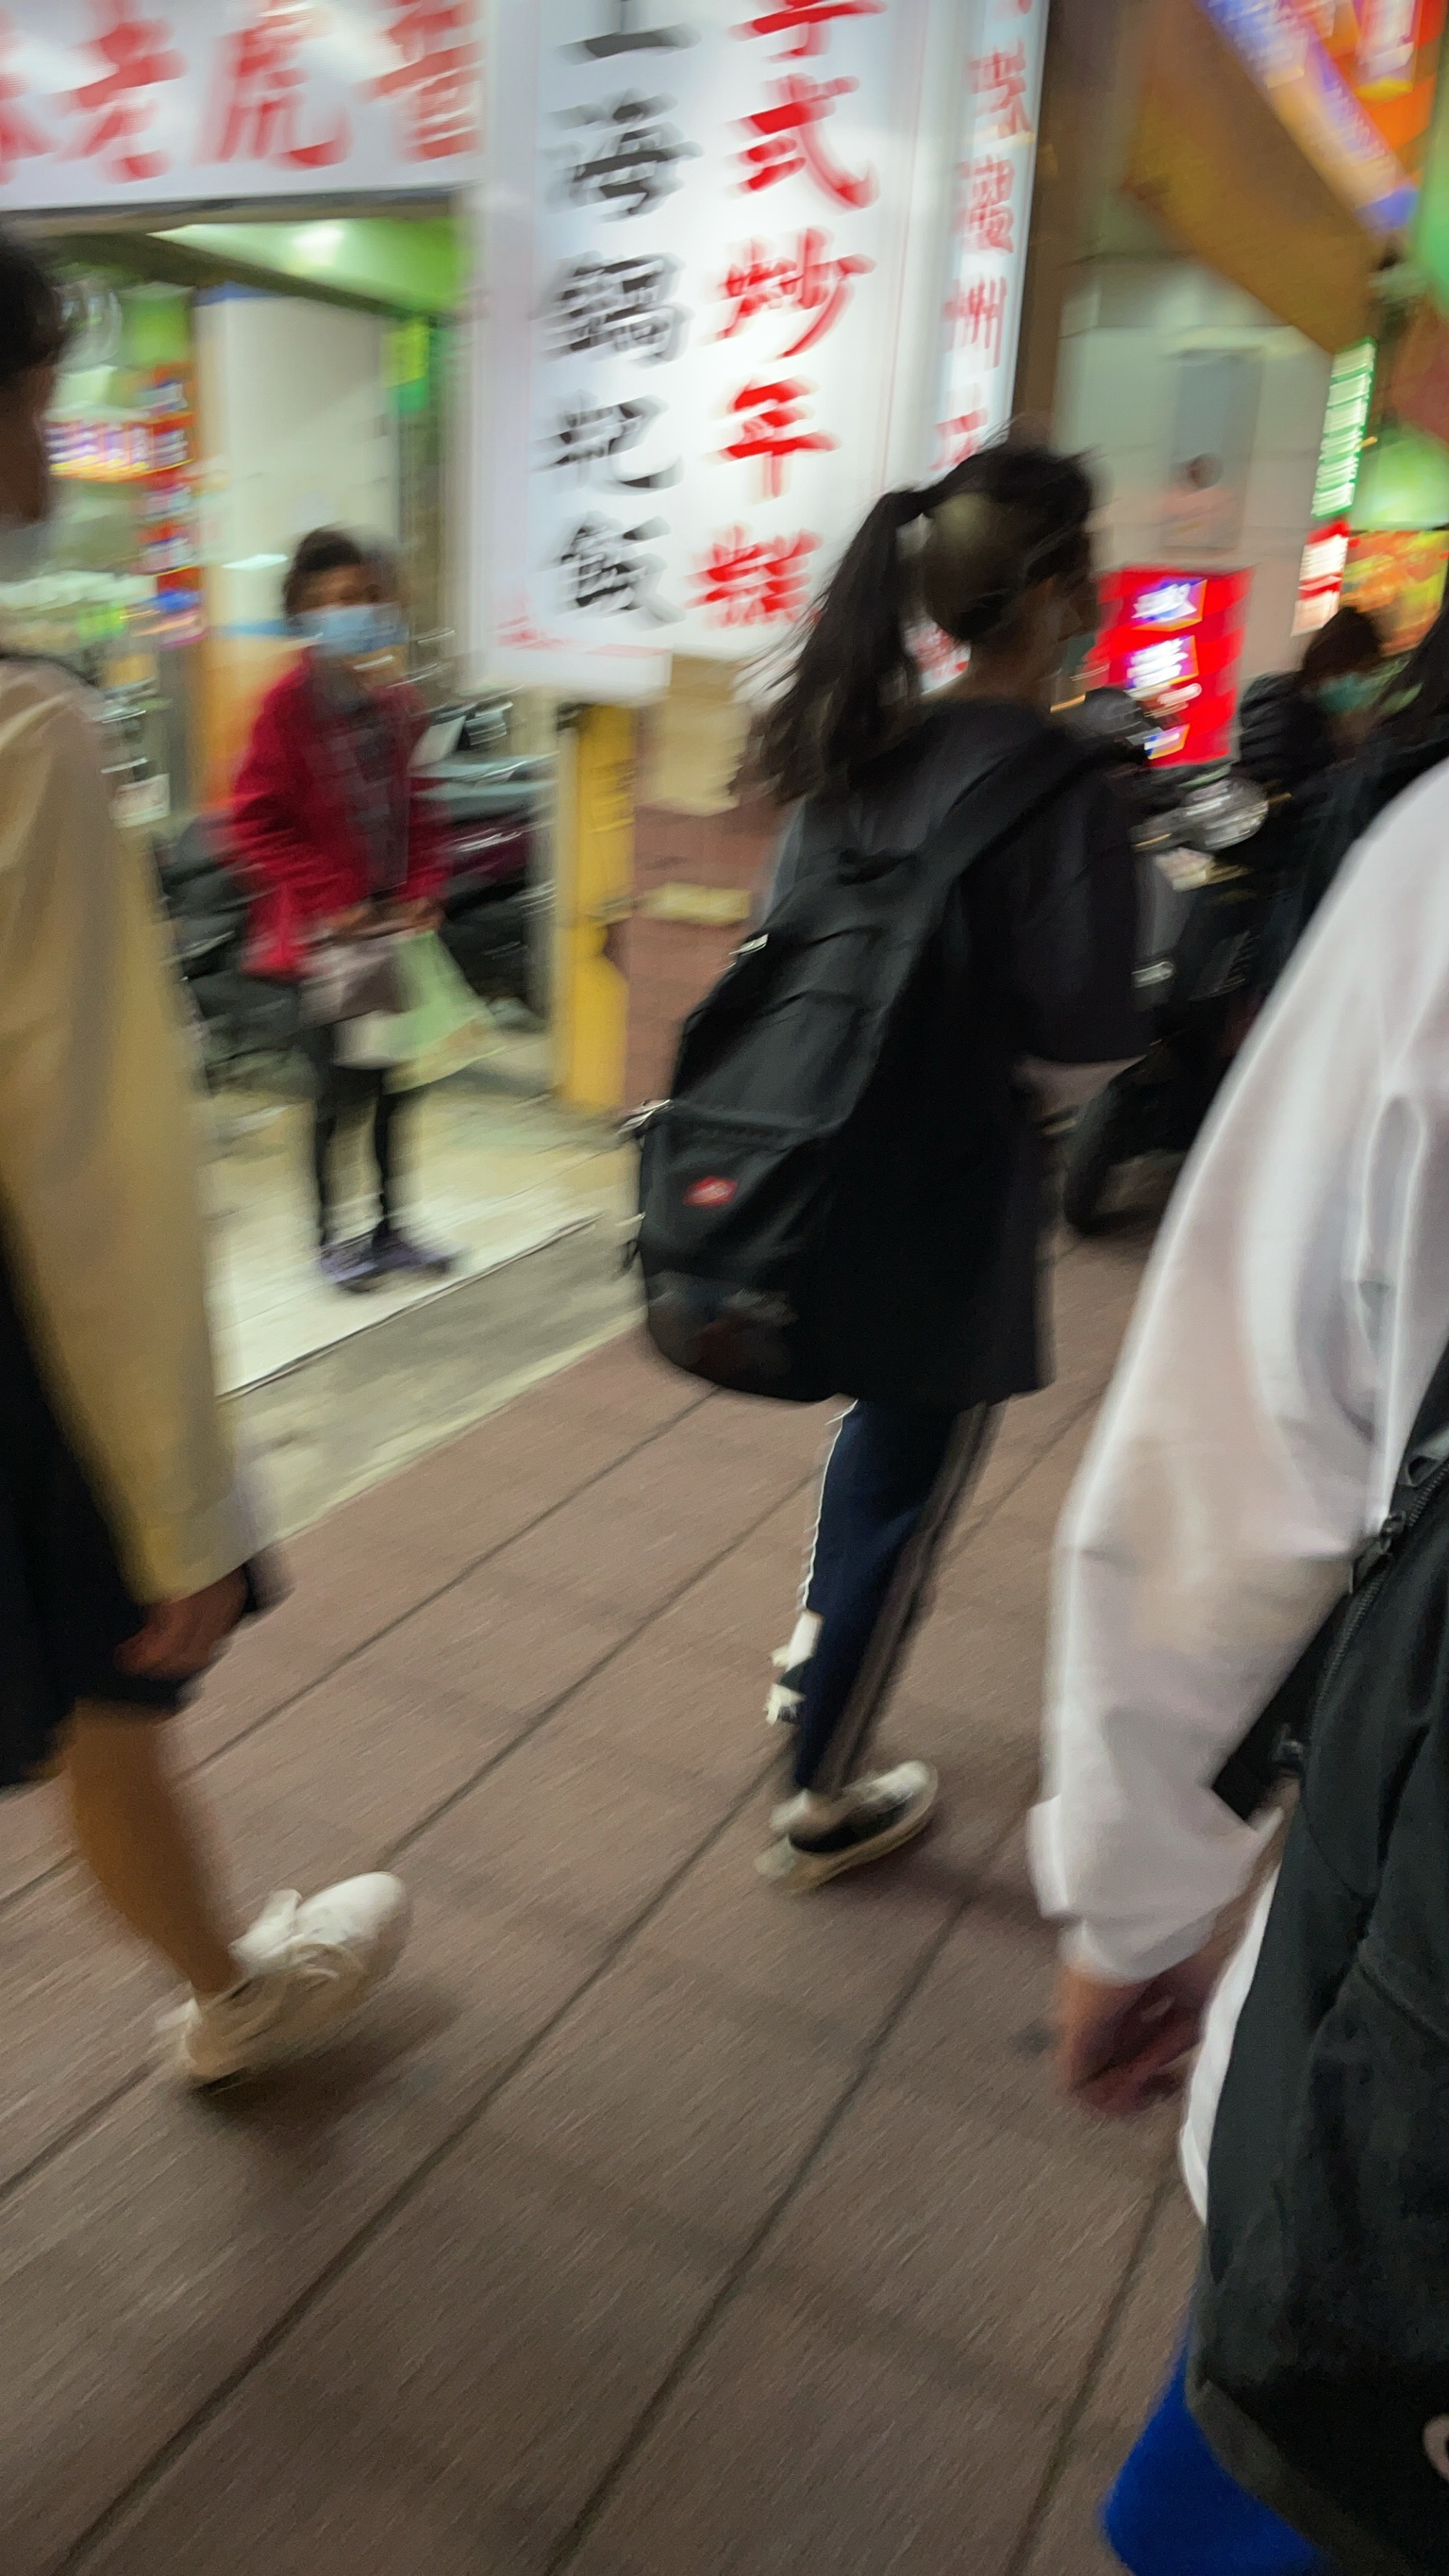people: (1, 235, 410, 2106), (747, 448, 1144, 1881), (225, 530, 464, 1290), (1239, 600, 1370, 846)
